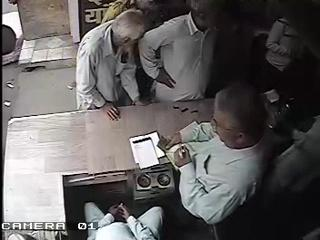Normal: (158, 82, 274, 232), (138, 0, 228, 103), (75, 9, 149, 121), (85, 202, 164, 239)
